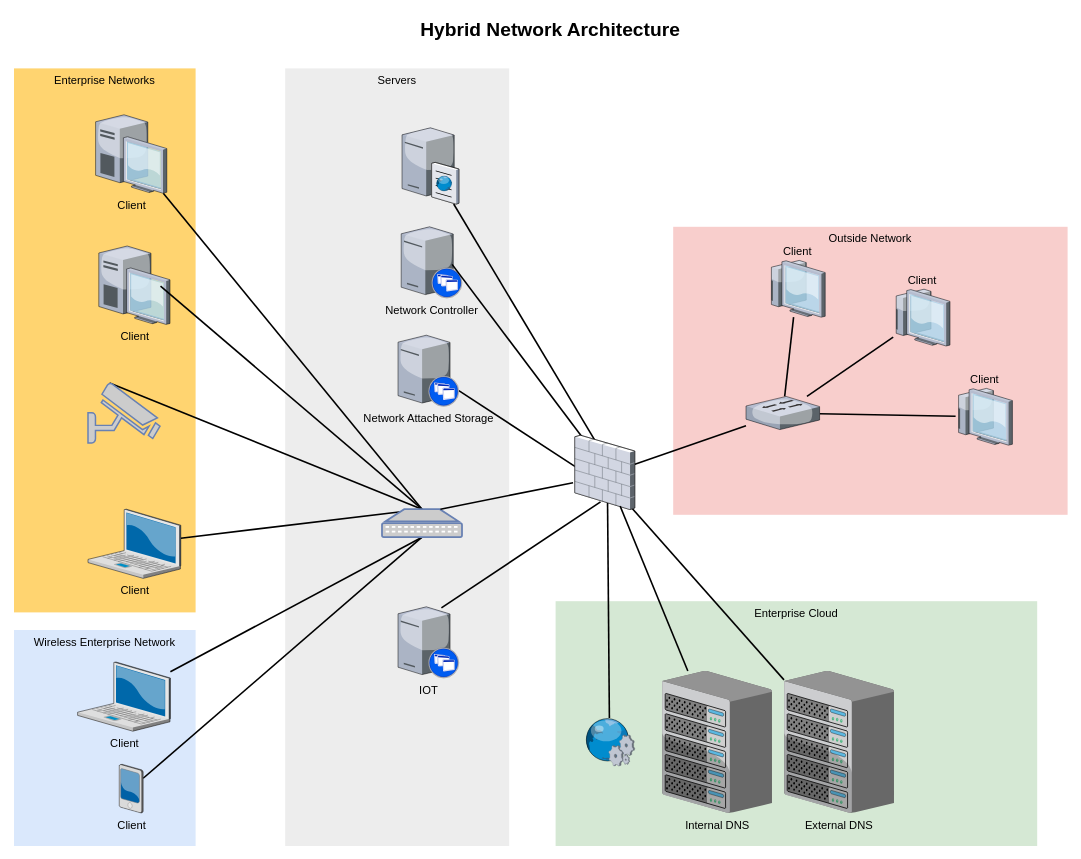
This 1081x859 diagram has some shape labels left out. Here are the shapes that lost their labels. From the top down, the centre of each, then its label:
point (430, 165): Web Server
point (123, 412): Security Camera
point (609, 742): AWS Services
